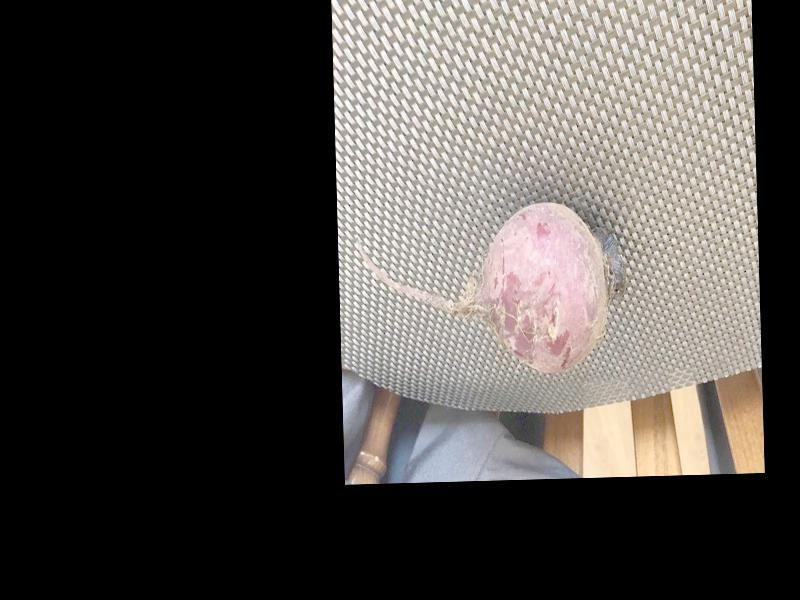Beet: (359, 201, 631, 380)
